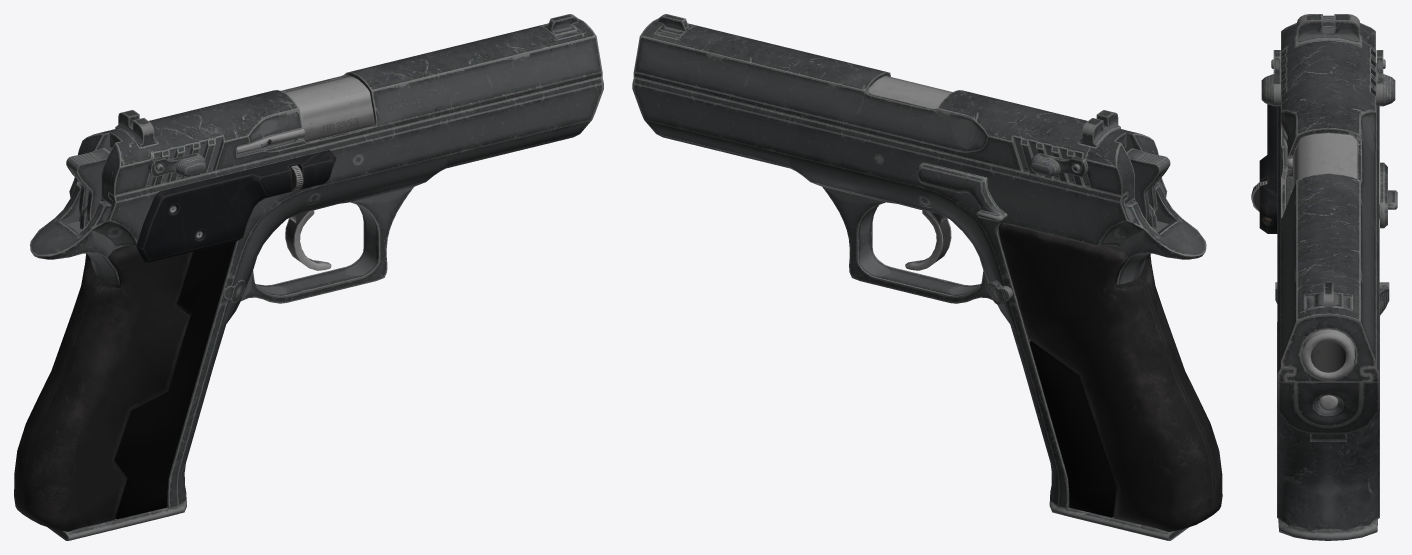
Rendered from jericho.glb.
The picture shows the model from 3 angles, left to right: view 1: azimuth 30°, elevation 25°; view 2: azimuth 150°, elevation 25°; view 3: azimuth 270°, elevation 25°; orthographic projection. The views are drawn at different scales.
Visible parts, largest first — view 1: jericho; view 2: jericho; view 3: jericho.
Part boxes in pixels (x1,y1,x2,y2): jericho: [14, 14, 603, 540]; jericho: [632, 14, 1222, 540]; jericho: [1251, 14, 1397, 540].
Bounding box in the file's own units: 9.86 × 6.46 × 1.72.
3 materials, 3 textured.
